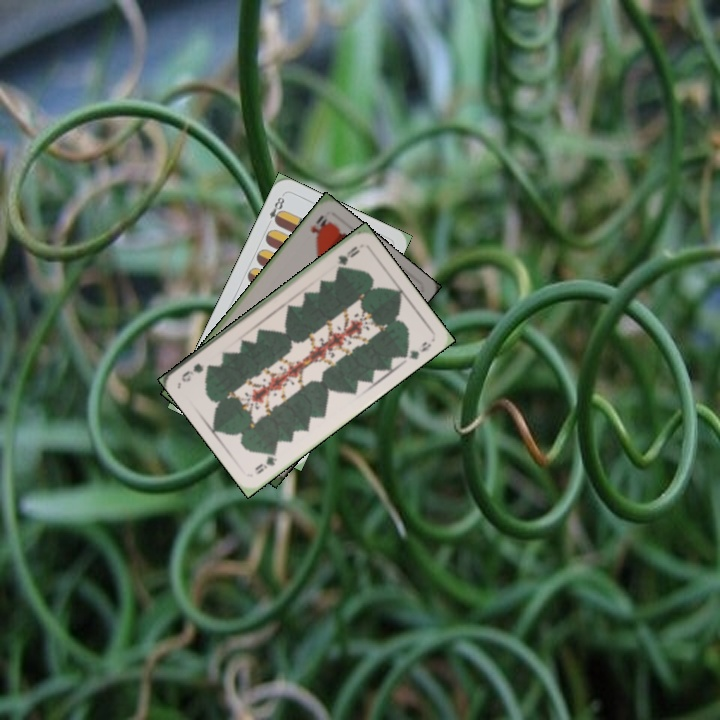E8: (263, 191, 287, 228)
G9: (333, 242, 363, 272), (251, 446, 280, 476)
HO: (306, 211, 332, 241)
